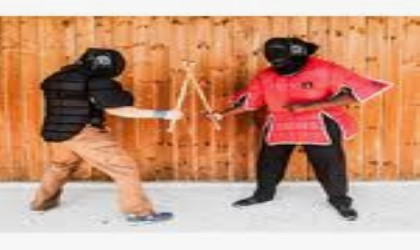baston_e: (184, 73, 218, 117), (165, 78, 190, 124)
baston_v: (179, 57, 188, 69), (164, 126, 174, 135), (214, 123, 224, 132), (188, 60, 196, 69)
